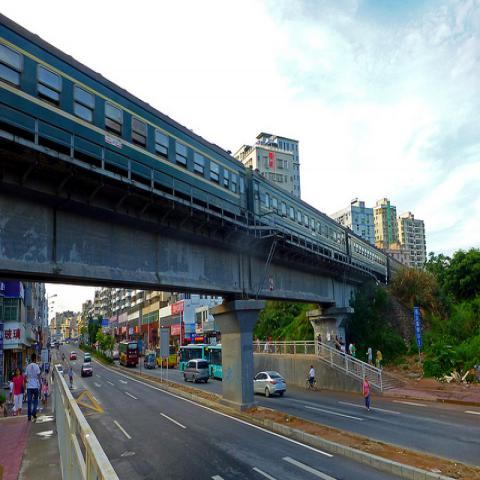bus: (177, 344, 222, 379), (117, 341, 139, 368), (156, 346, 177, 368)
car: (254, 370, 286, 398), (183, 358, 209, 384), (144, 353, 156, 369), (52, 364, 63, 380), (81, 363, 93, 377), (84, 352, 91, 362), (70, 350, 76, 360), (50, 344, 55, 348), (60, 342, 64, 346)
